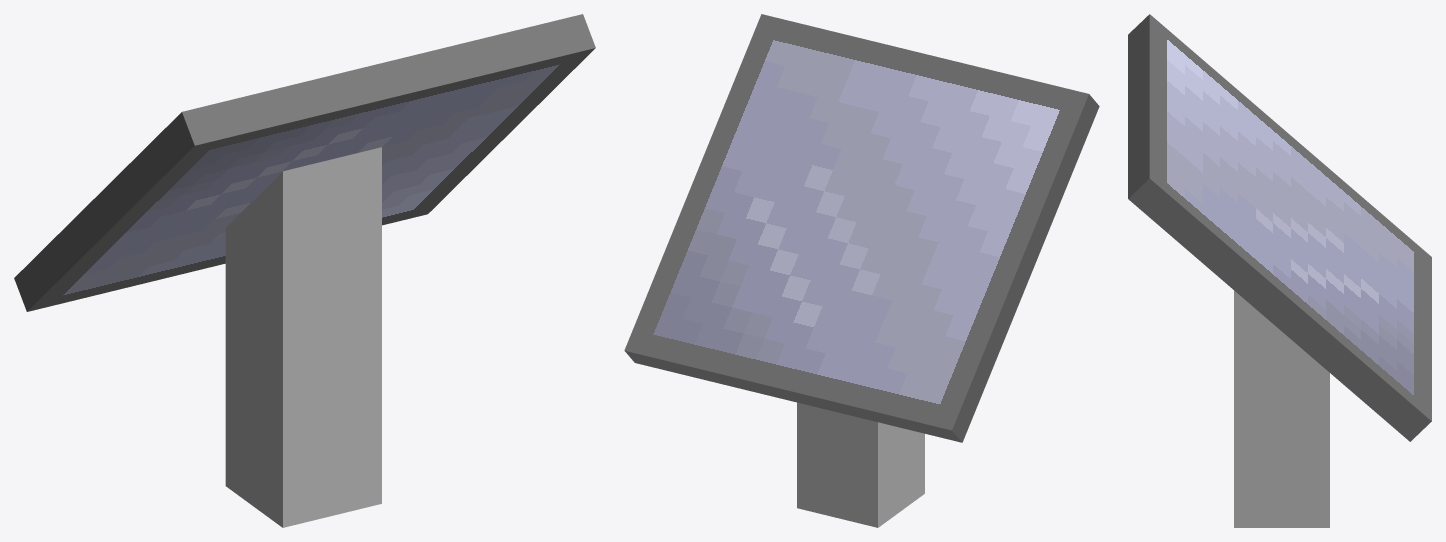
The model's file is mirror.obj.
3 views of the same model, side by side, from view 1: azimuth 30°, elevation 25°; view 2: azimuth 150°, elevation 25°; view 3: azimuth 270°, elevation 25° (orthographic). The views are drawn at different scales.
Parts seen in each view (by area): view 1: Plane_Plane.001, Cube_Cube.001; view 2: Plane_Plane.001, Cube_Cube.001; view 3: Plane_Plane.001, Cube_Cube.001.
Boxes of the visible parts, bbox=[...] form: Plane_Plane.001: bbox=[14, 14, 595, 311]; Cube_Cube.001: bbox=[225, 147, 381, 527]; Plane_Plane.001: bbox=[624, 14, 1099, 442]; Cube_Cube.001: bbox=[797, 402, 924, 527]; Plane_Plane.001: bbox=[1128, 14, 1431, 441]; Cube_Cube.001: bbox=[1234, 290, 1329, 527].
Bounding box in the file's own units: 2 × 2.33 × 1.56.
